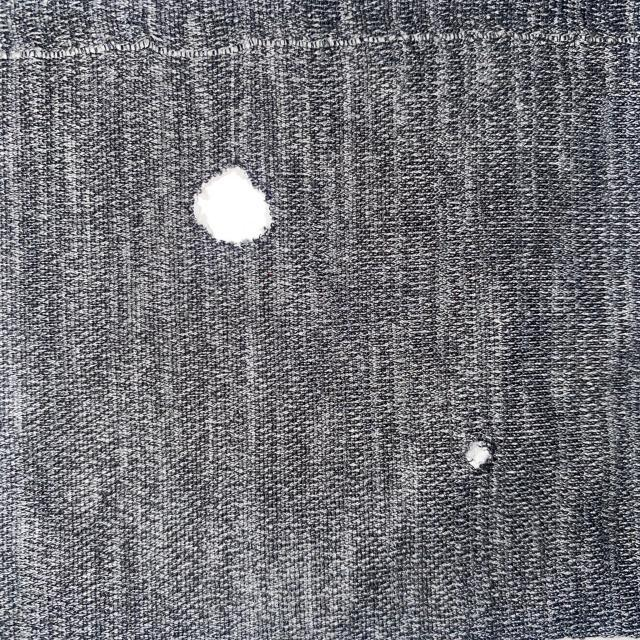Hole: (181, 153, 280, 247)
Knot: (465, 438, 496, 475)
Line: (0, 29, 638, 64)
